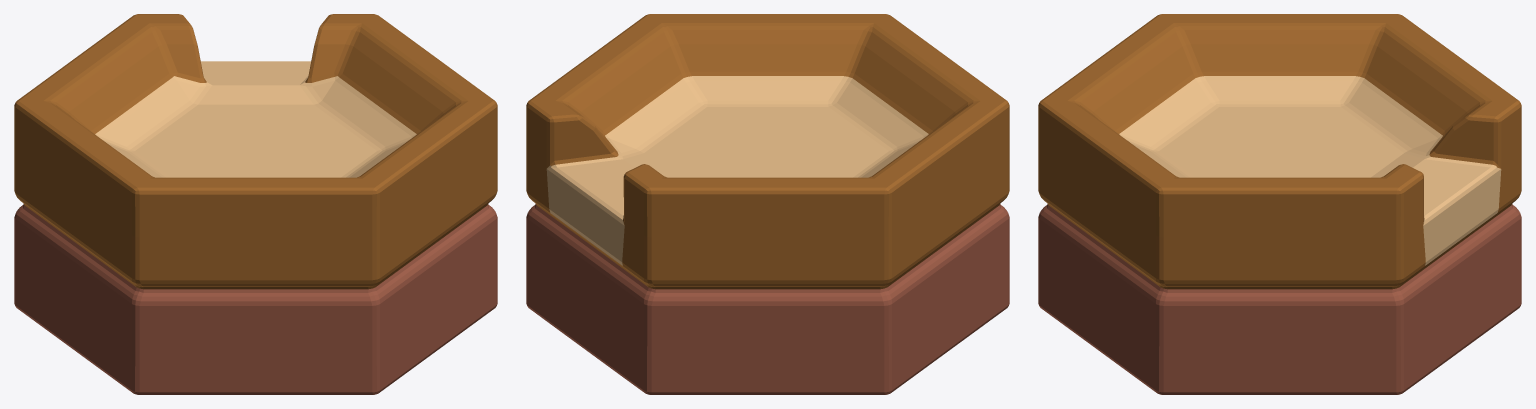
Rendered from my_road_1.fbx.
The picture shows the model from 3 angles, left to right: view 1: azimuth 30°, elevation 25°; view 2: azimuth 150°, elevation 25°; view 3: azimuth 270°, elevation 25°; orthographic projection.
Parts seen in each view (by area): view 1: Circle.006; view 2: Circle.006; view 3: Circle.006.
Boxes of the visible parts, box(x1,y1,x2,y2) form: Circle.006: box(14, 14, 497, 394); Circle.006: box(526, 14, 1009, 394); Circle.006: box(1038, 14, 1521, 394).
Bounding box in the file's own units: 200 × 109 × 230.
